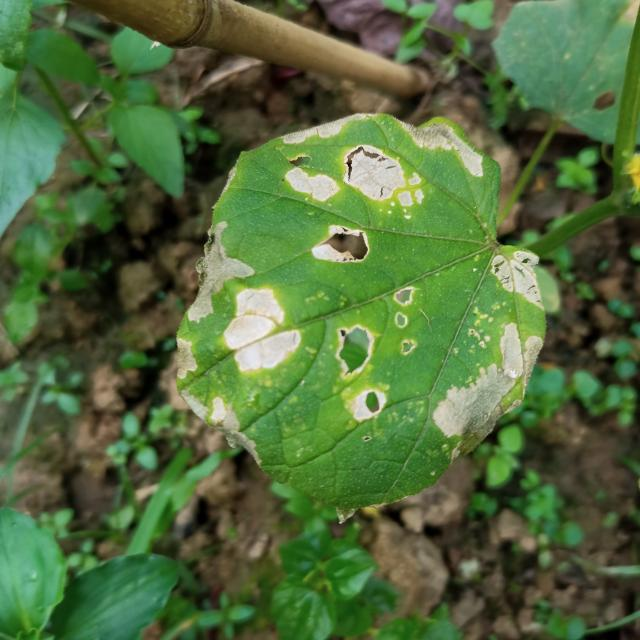disease_cucumber: (163, 222, 428, 470), (272, 100, 498, 266), (429, 245, 565, 492)
